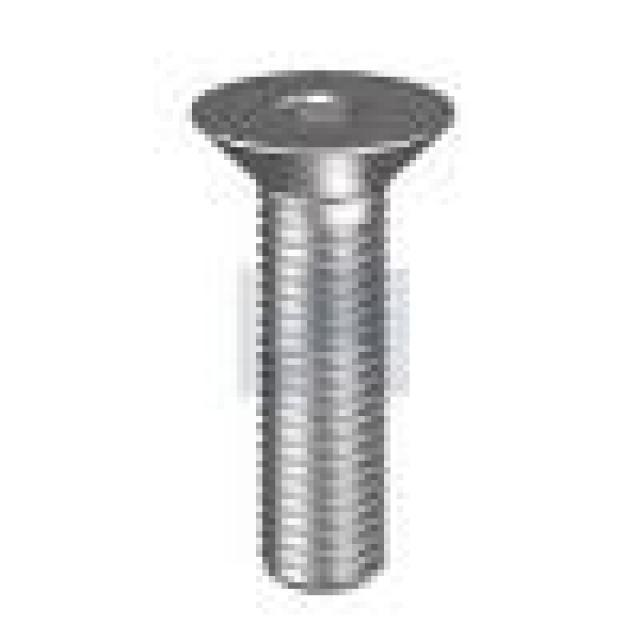Screw: (192, 70, 454, 602)
